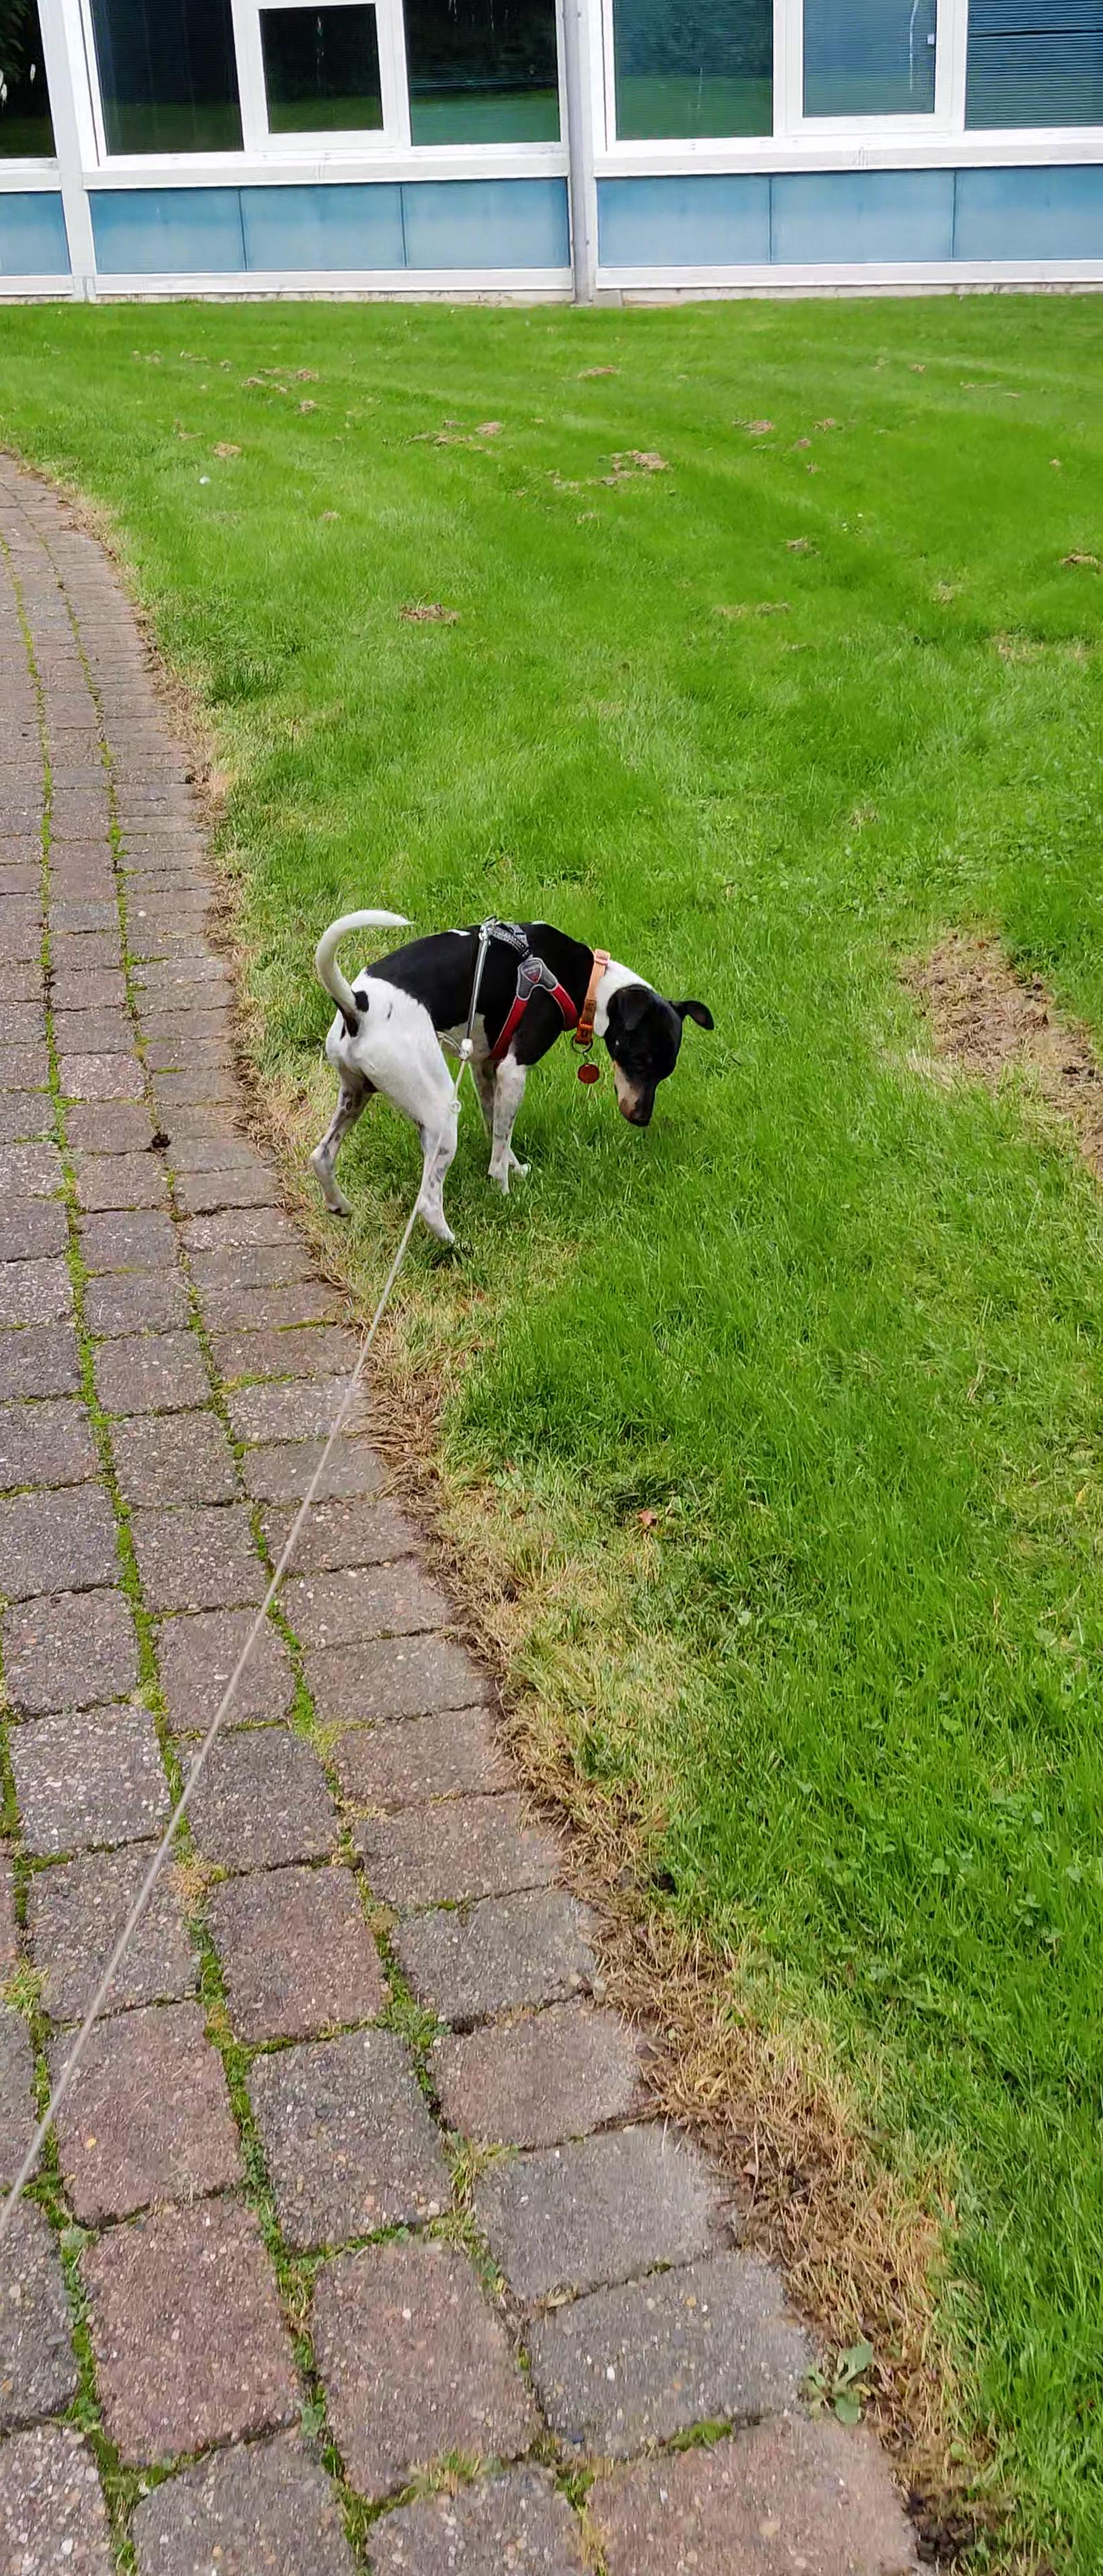Dog: (294, 876, 723, 1265)
